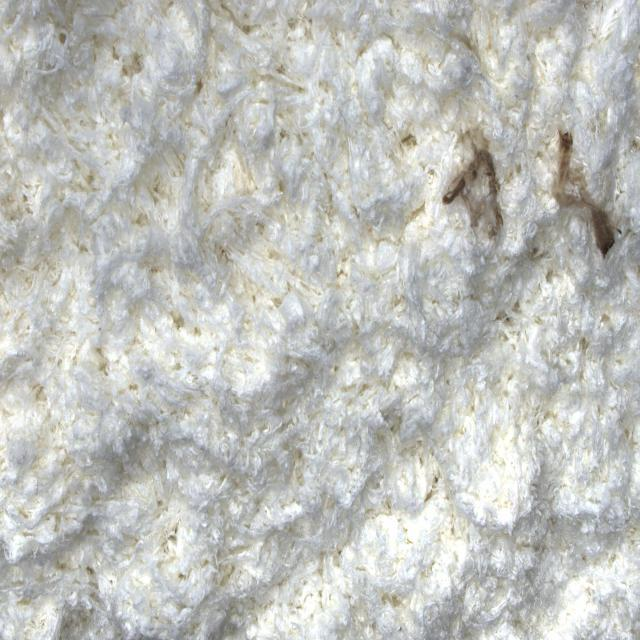dust: (440, 112, 507, 251), (556, 122, 618, 264)
